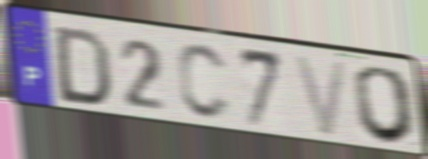2: (118, 38, 168, 114)
7: (238, 44, 285, 133)
C: (175, 42, 234, 124)
D: (54, 24, 113, 109)
O: (352, 64, 420, 147)
V: (291, 53, 350, 139)
